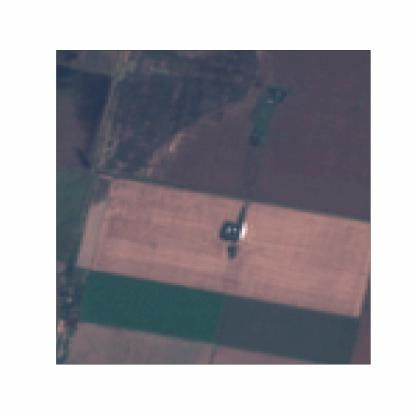silobolsa: (238, 220, 248, 244)
